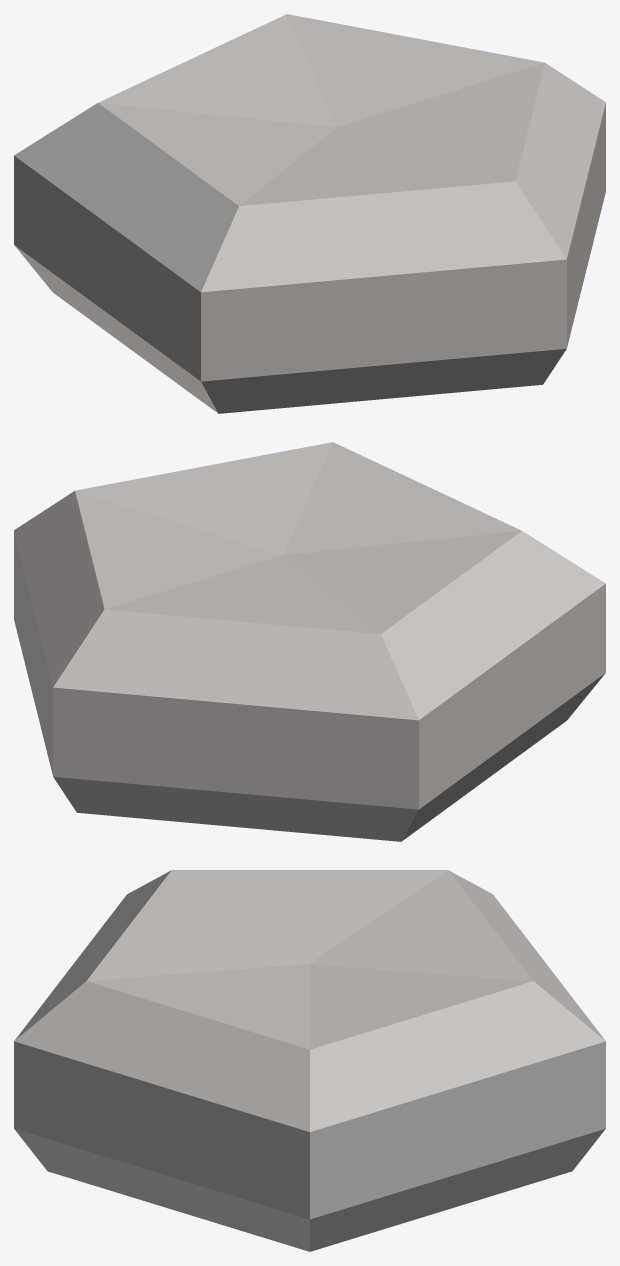
Rendered from SM_Prop_Pills_01.fbx.
The picture shows the model from 3 angles, top to bottom: view 1: azimuth 30°, elevation 25°; view 2: azimuth 150°, elevation 25°; view 3: azimuth 270°, elevation 25°; orthographic projection. The views are drawn at different scales.
Parts seen in each view (by area): view 1: SM_Prop_Pills_01; view 2: SM_Prop_Pills_01; view 3: SM_Prop_Pills_01.
Part boxes in pixels (box(x1,y1,x2,y2)): SM_Prop_Pills_01: box(14, 14, 605, 413); SM_Prop_Pills_01: box(14, 442, 605, 841); SM_Prop_Pills_01: box(14, 870, 605, 1251).
Size of the model in its own units: 3.86 by 1.41 by 4.06.
